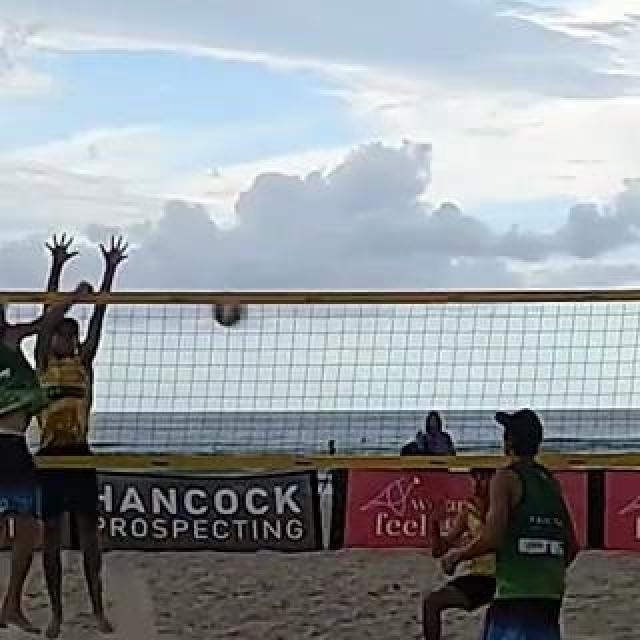volleyball: (213, 295, 249, 327)
